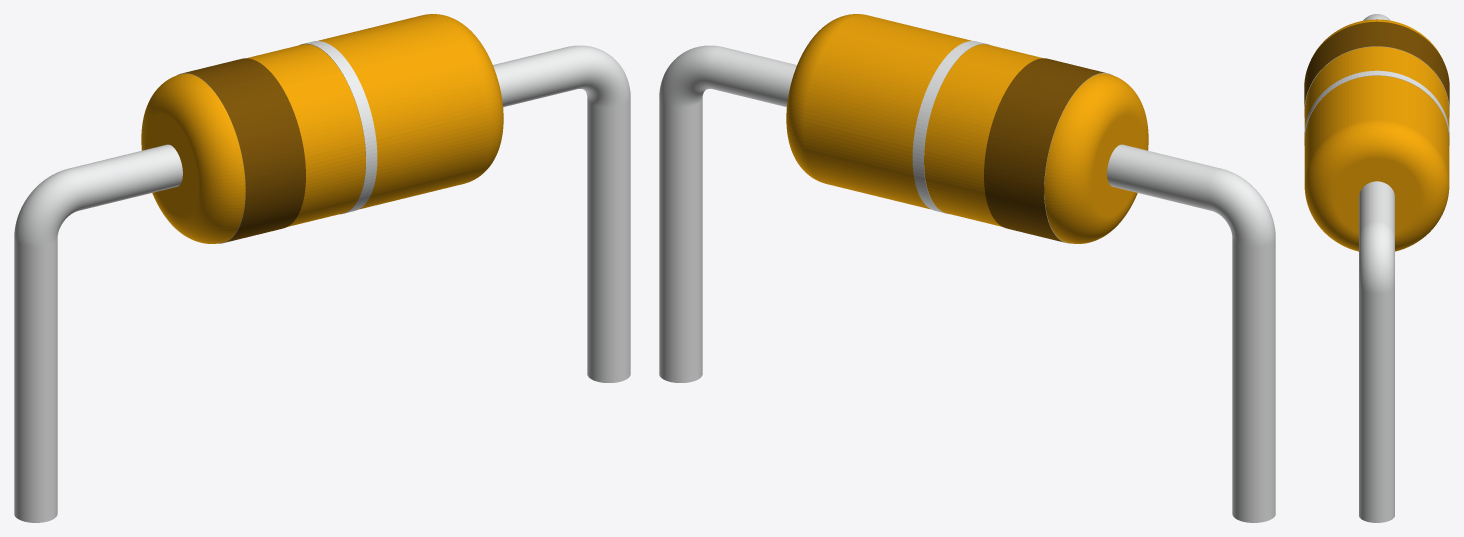
The model's file is zener.glb.
3 renders of one model, left to right at view 1: azimuth 30°, elevation 25°; view 2: azimuth 150°, elevation 25°; view 3: azimuth 270°, elevation 25°, orthographic. The views are drawn at different scales.
Visible parts, largest first — view 1: Node3, Node2, Node4; view 2: Node3, Node2, Node4; view 3: Node3, Node2, Node4, Node1.
Boxes of the visible parts, x1=… form: Node3: x1=141, y1=14, x2=503, y2=243; Node2: x1=14, y1=41, x2=630, y2=522; Node4: x1=184, y1=58, x2=305, y2=242; Node3: x1=786, y1=14, x2=1148, y2=243; Node2: x1=659, y1=41, x2=1275, y2=522; Node4: x1=984, y1=58, x2=1105, y2=242; Node3: x1=1304, y1=19, x2=1449, y2=251; Node2: x1=1304, y1=14, x2=1449, y2=522; Node4: x1=1304, y1=21, x2=1449, y2=106; Node1: x1=1304, y1=46, x2=1449, y2=145.
Bounding box in the file's own units: 8.12 × 5.01 × 2.01.
